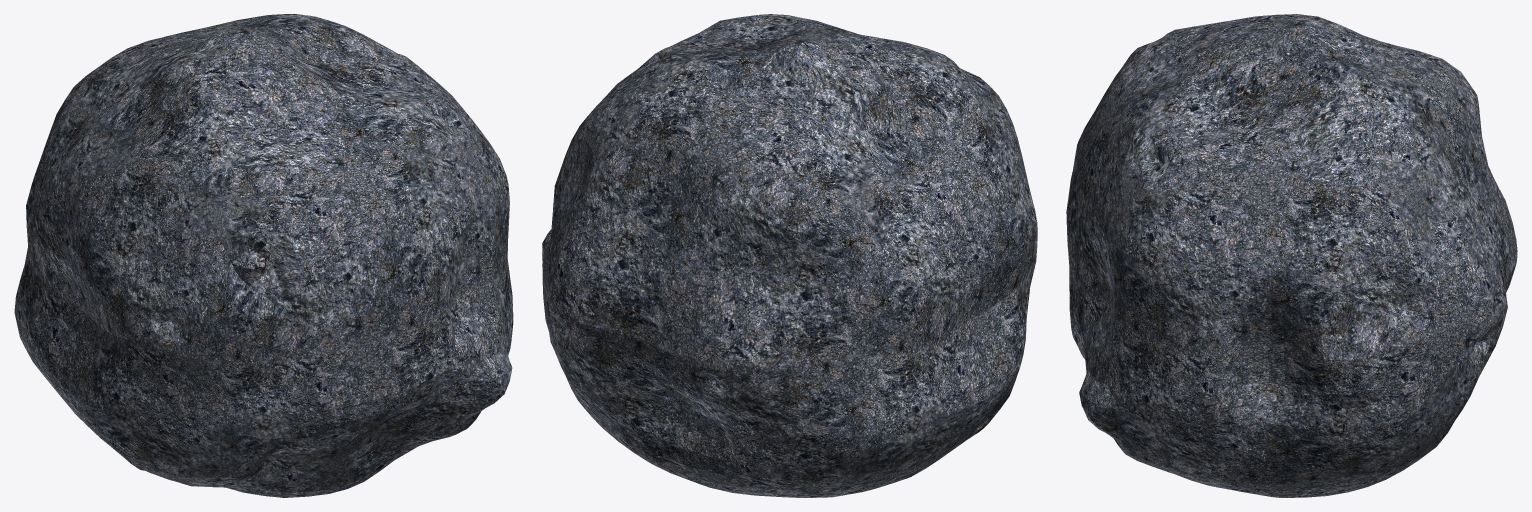
Rendered from planetoid_iron_s01_l0.fbx.
The picture shows the model from 3 angles, left to right: view 1: azimuth 30°, elevation 25°; view 2: azimuth 150°, elevation 25°; view 3: azimuth 270°, elevation 25°; orthographic projection.
Parts seen in each view (by area): view 1: mesh_node; view 2: mesh_node; view 3: mesh_node.
Part boxes in pixels (box(x1,y1,x2,y2)): mesh_node: box(14, 14, 513, 497); mesh_node: box(542, 14, 1037, 497); mesh_node: box(1066, 14, 1517, 497).
Size of the model in its own units: 412 by 426 by 395.
